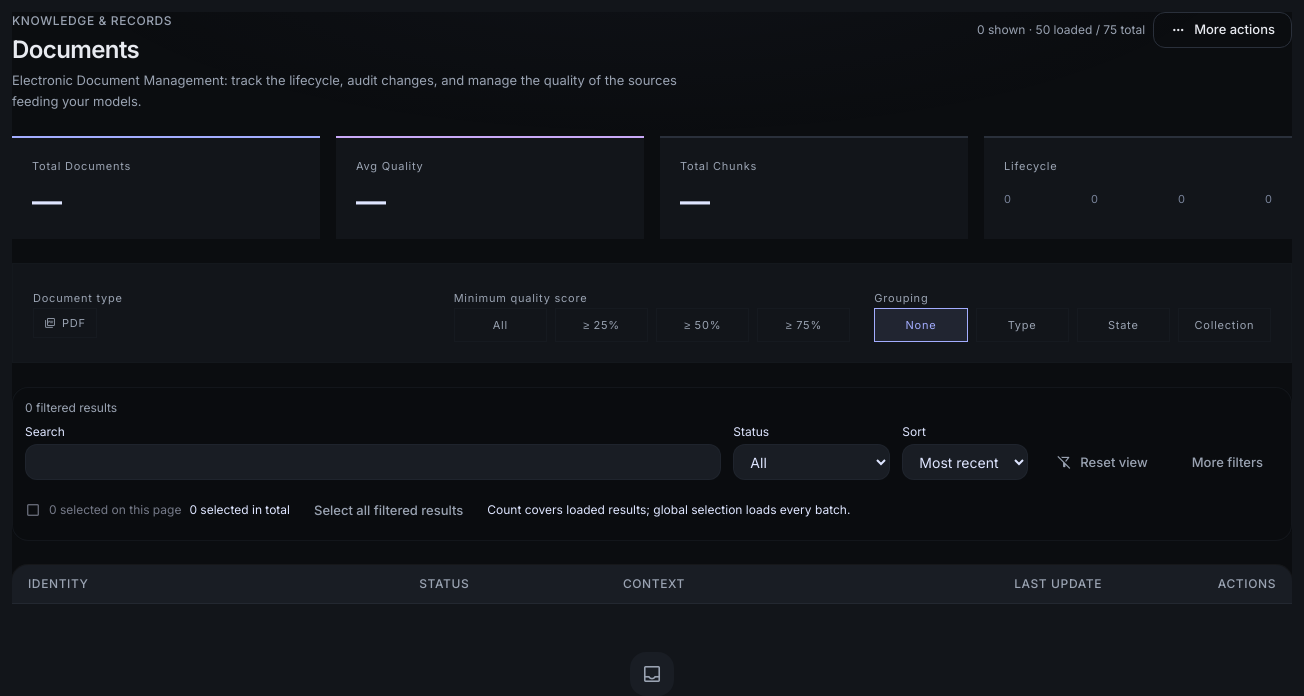
Test: finds filtered matches in later batches even when none are currently loaded
This screenshot has width=1304, height=696.
Click the button "Select all filtered results". click: (389, 510)
box: [298,492,479,528]
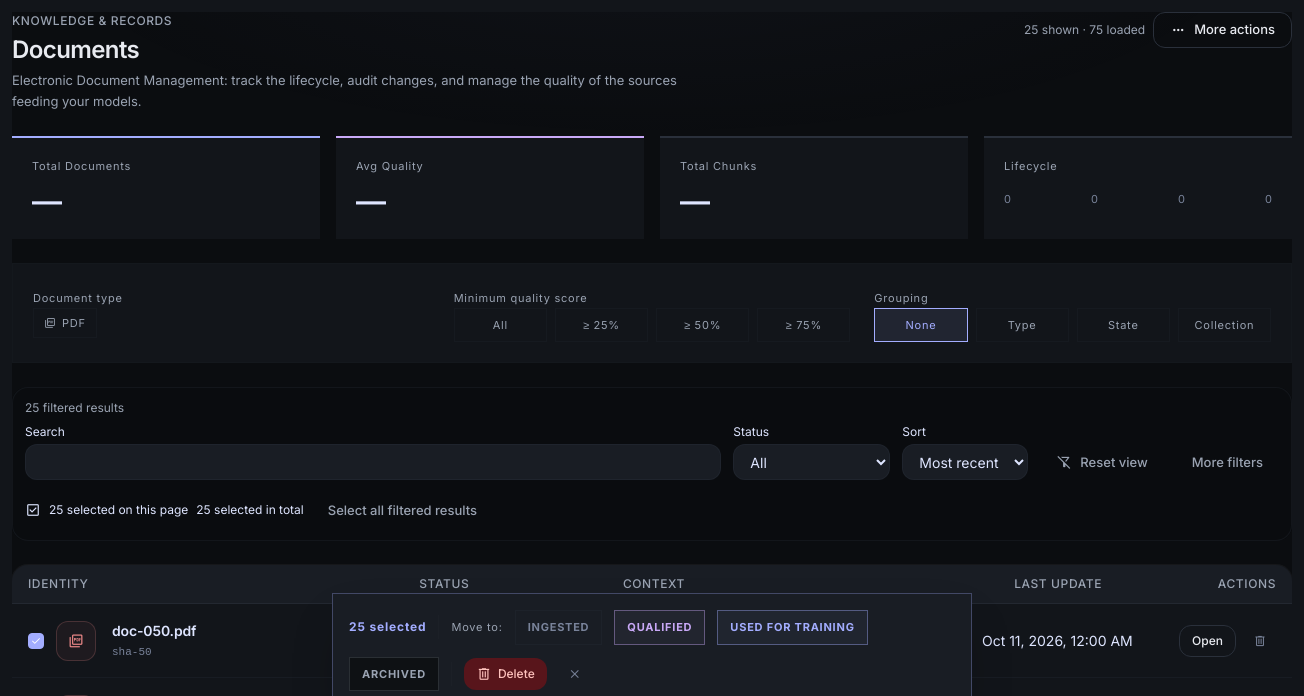
Check: the text "25 selected in total" is shown, box [196,502,304,518]
